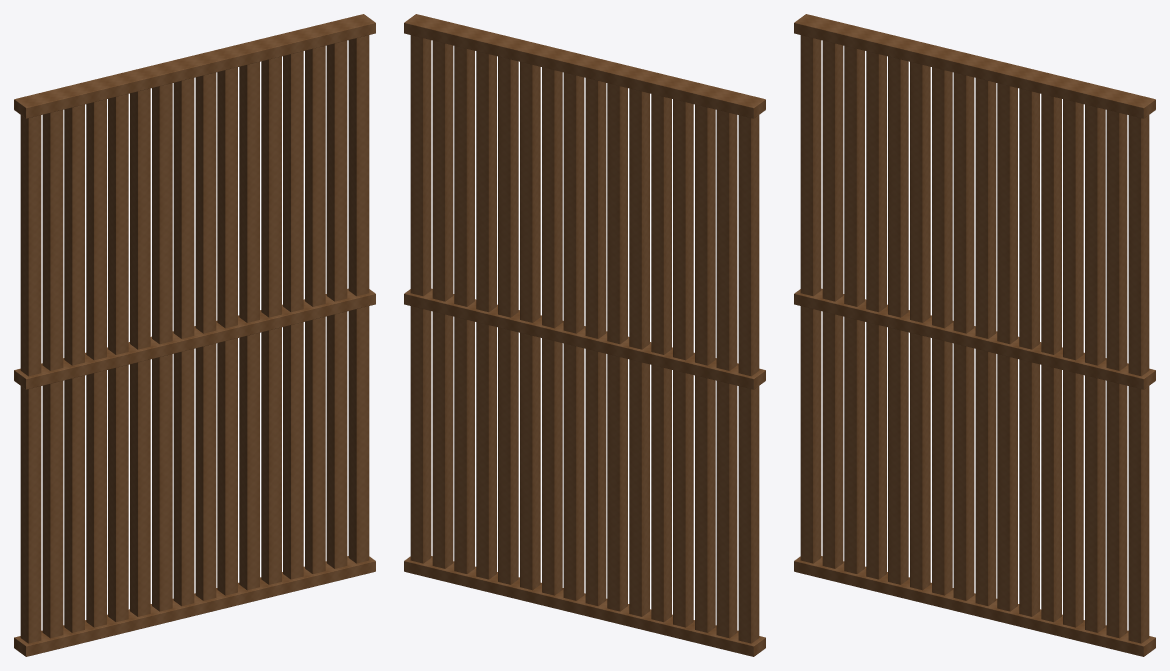
Rendered from MH_Facade_WoodScreen2x3m.fbx.
3 views of the same model, side by side, from view 1: azimuth 30°, elevation 25°; view 2: azimuth 150°, elevation 25°; view 3: azimuth 330°, elevation 25° (orthographic).
Parts seen in each view (by area): view 1: Body; view 2: Body; view 3: Body.
Boxes of the visible parts, <box> form: Body: <box>14,14,375,656</box>; Body: <box>404,14,765,656</box>; Body: <box>794,14,1155,656</box>.
Size of the model in its own units: 2 by 3 by 0.12.
